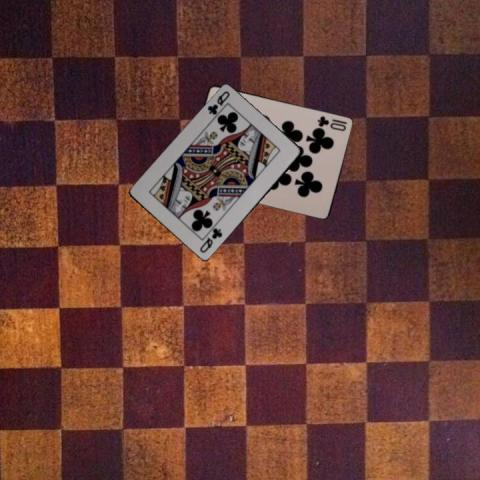10c: (314, 113, 348, 132)
Qc: (197, 225, 224, 255), (205, 88, 231, 117)
